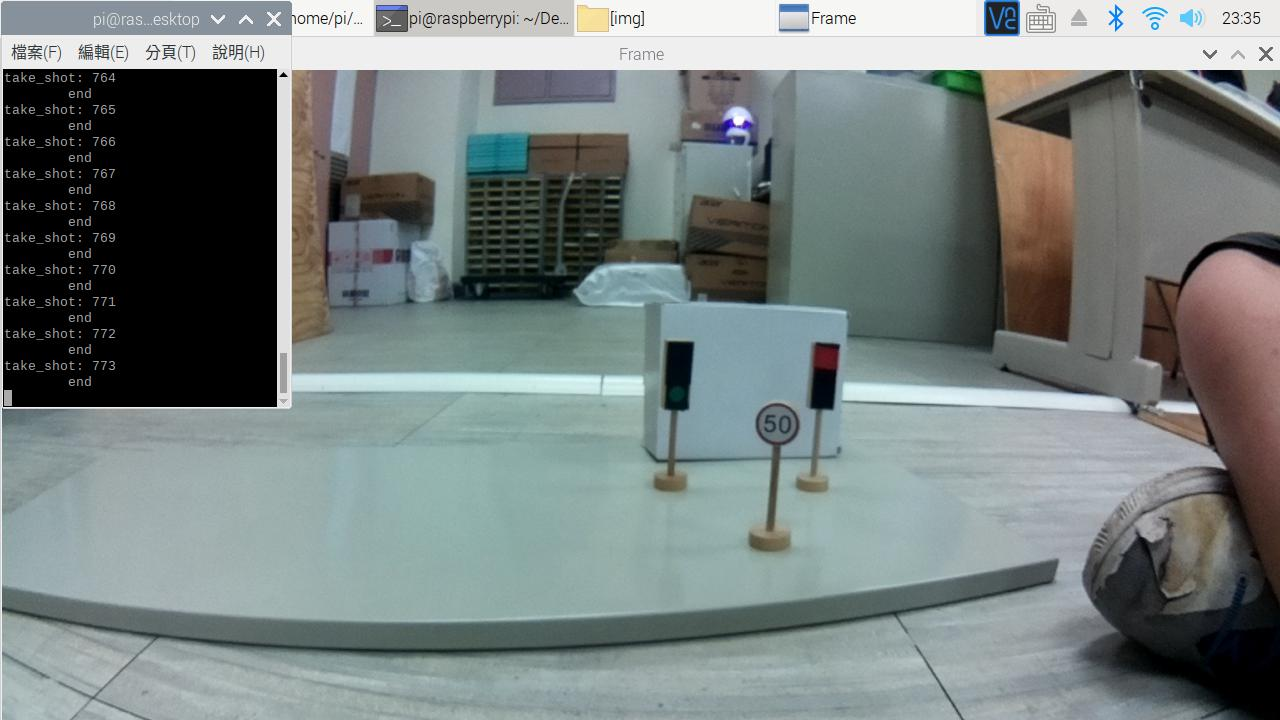Green: (656, 335, 699, 421)
Red: (803, 342, 856, 420)
Speed50: (746, 400, 807, 452)
